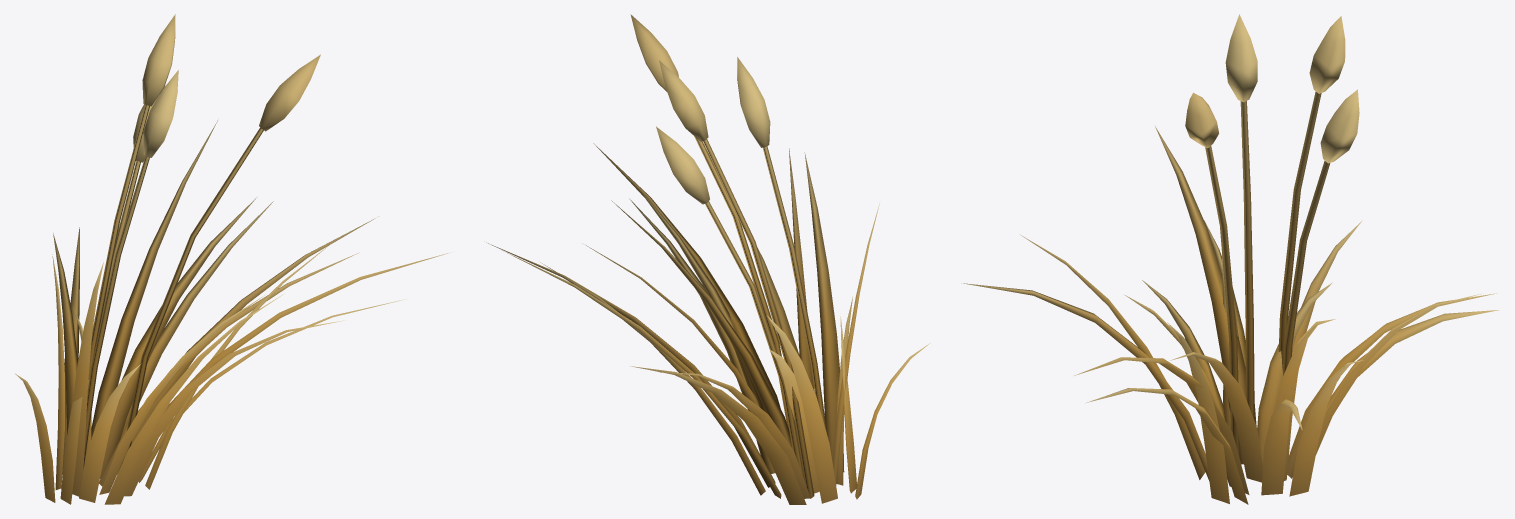
Rendered from TallGrass.fbx.
The picture shows the model from 3 angles, left to right: view 1: azimuth 30°, elevation 25°; view 2: azimuth 150°, elevation 25°; view 3: azimuth 270°, elevation 25°; orthographic projection. The views are drawn at different scales.
Parts seen in each view (by area): view 1: TallGrass; view 2: TallGrass; view 3: TallGrass.
Boxes of the visible parts, x1,y1,x2,y2 form: TallGrass: (15, 14, 448, 504); TallGrass: (486, 14, 929, 504); TallGrass: (961, 14, 1498, 504).
Bounding box in the file's own units: 0.9817 × 0.9778 × 0.8979.
